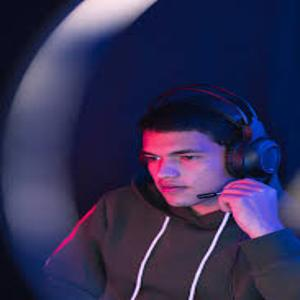Headphones: (138, 91, 282, 182)
